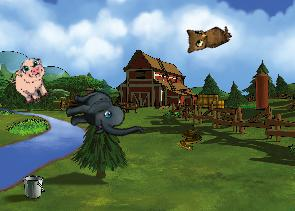elephant: (61, 79, 144, 153)
owl: (179, 13, 233, 58)
pig: (5, 54, 58, 108)
